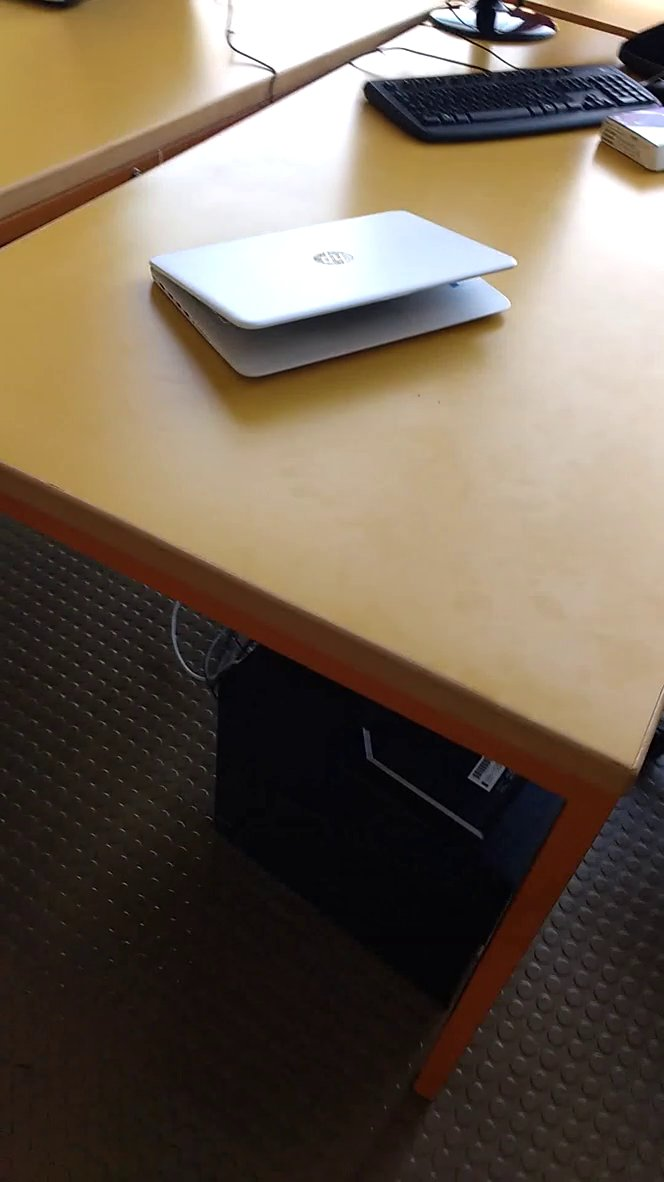laptop: (135, 185, 535, 391)
